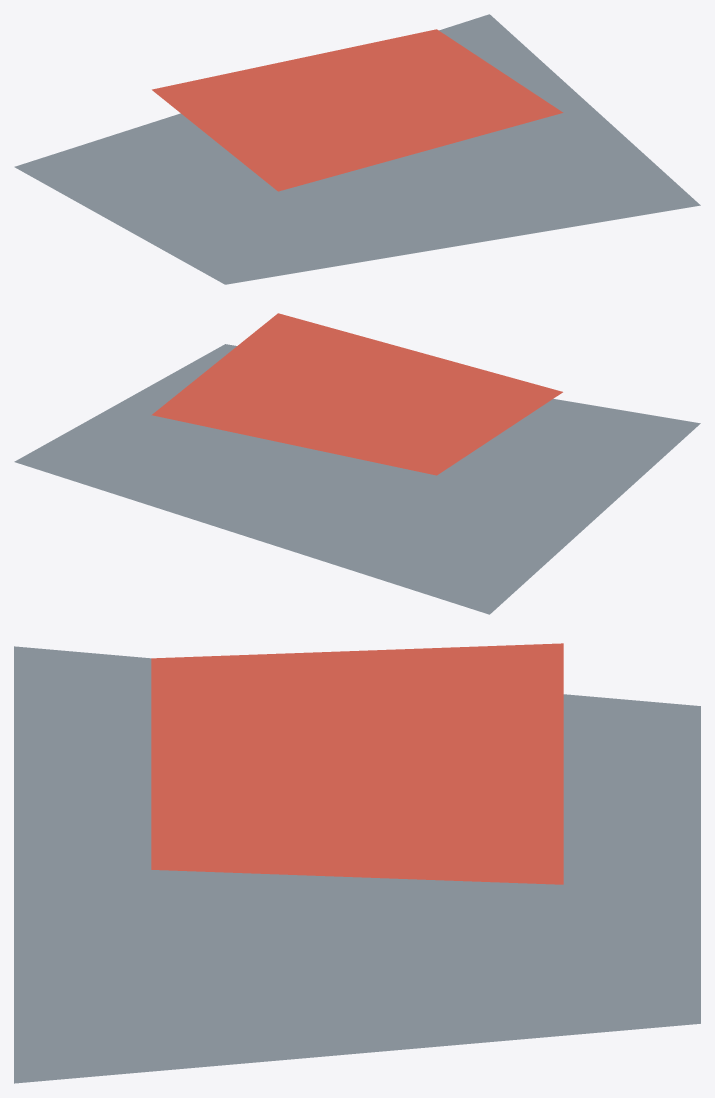
File: SU_KrechetInterceptor_LOD2.glb
The picture shows the model from 3 angles, top to bottom: view 1: azimuth 30°, elevation 25°; view 2: azimuth 150°, elevation 25°; view 3: azimuth 270°, elevation 25°; orthographic projection. The views are drawn at different scales.
Visible parts, largest first — view 1: EntranceGate; view 2: EntranceGate; view 3: EntranceGate.
Part boxes in pixels (<box>): EntranceGate: <box>14,14,700,284</box>; EntranceGate: <box>14,313,700,614</box>; EntranceGate: <box>14,643,700,1083</box>.
Size of the model in its own units: 650 by 111 by 500.
